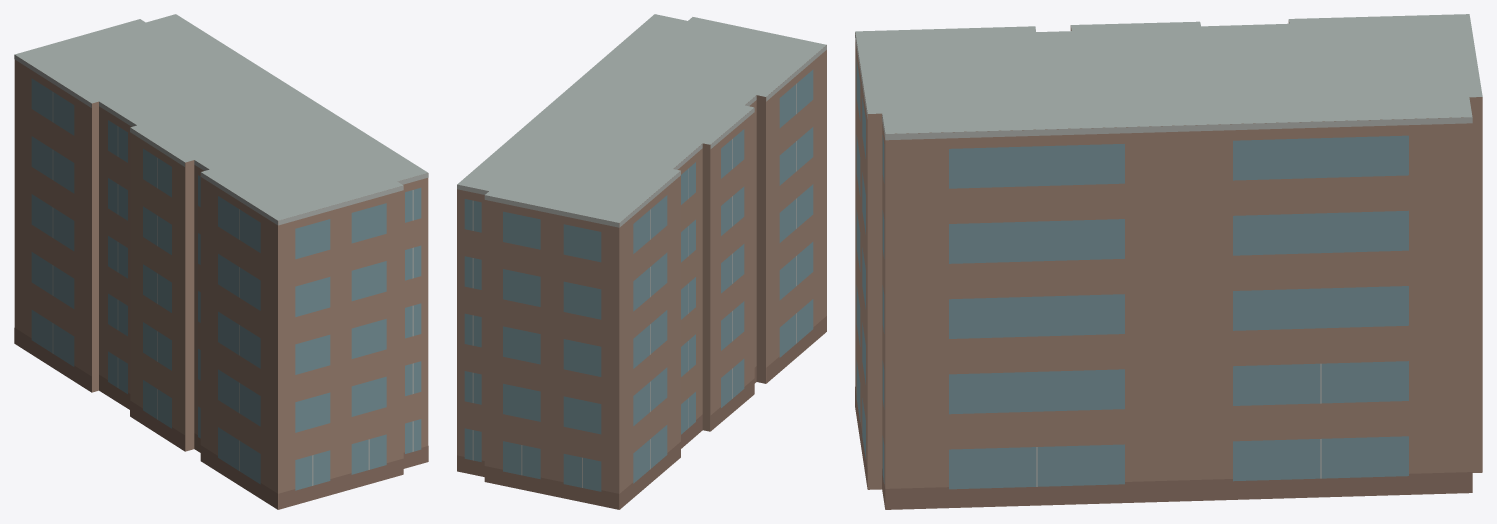
Rendered from survey-upis-32735357.glb.
3 views of the same model, side by side, from view 1: azimuth 30°, elevation 25°; view 2: azimuth 150°, elevation 25°; view 3: azimuth 270°, elevation 25° (orthographic). The views are drawn at different scales.
Parts seen in each view (by area): view 1: survey-upis-32735357.tmp; view 2: survey-upis-32735357.tmp; view 3: survey-upis-32735357.tmp.
Boxes of the visible parts, bbox=[...] form: survey-upis-32735357.tmp: bbox=[14, 14, 428, 509]; survey-upis-32735357.tmp: bbox=[457, 14, 826, 509]; survey-upis-32735357.tmp: bbox=[855, 14, 1482, 509].
Bounding box in the file's own units: 10.15 × 14.8 × 22.41.
